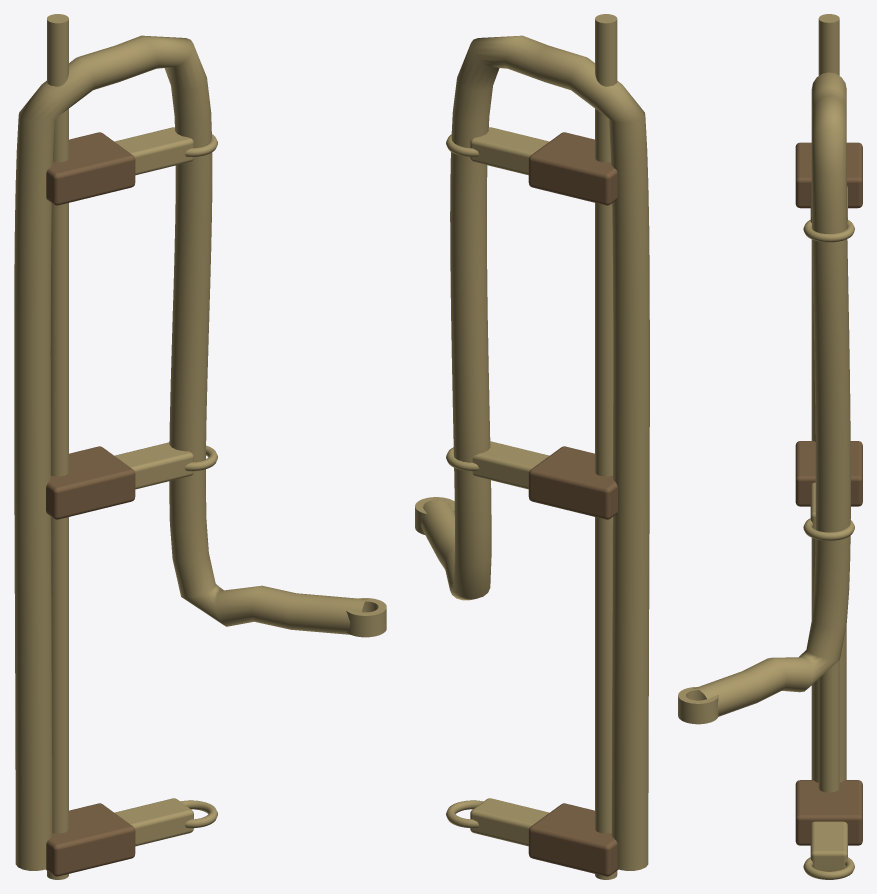
Rendered from water-clock-garden-and-hydraulic-puzzles-return-siphon-90bbc6d2__31931.glb.
3 renders of one model, left to right at view 1: azimuth 30°, elevation 25°; view 2: azimuth 150°, elevation 25°; view 3: azimuth 270°, elevation 25°, orthographic. The views are drawn at different scales.
Parts seen in each view (by area): view 1: return-siphon-assembly; view 2: return-siphon-assembly; view 3: return-siphon-assembly.
Boxes of the visible parts, box(x1,y1,x2,y2) form: return-siphon-assembly: box(14, 14, 386, 879); return-siphon-assembly: box(415, 14, 649, 879); return-siphon-assembly: box(678, 14, 862, 879).
Size of the model in its own units: 0.8755 by 2.4 by 0.4939.
